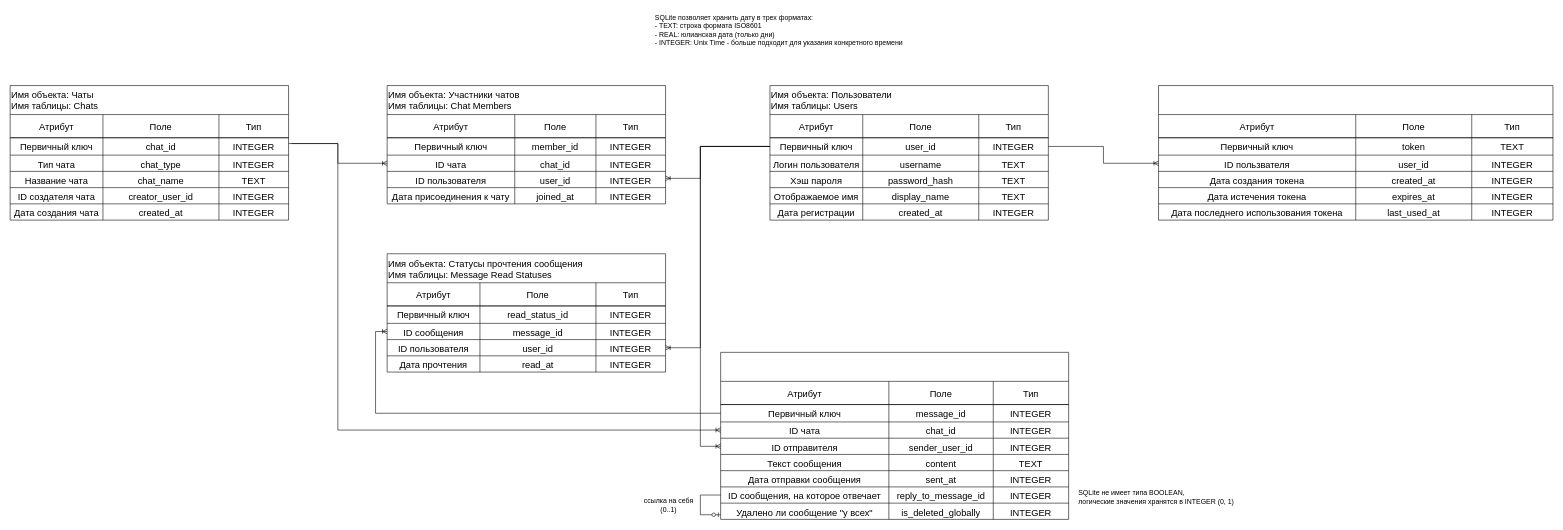
This 1563x530 diagram has some shape labels left out. Here are the shapes that lost their labels. From the top down, the box of each, then its label:
(1158, 85, 1553, 220): Имя объекта: Токены аутентификации Имя таблицы: Auth Tokens
(720, 352, 1069, 519): Имя объекта: Сообщения Имя таблицы: Messages
